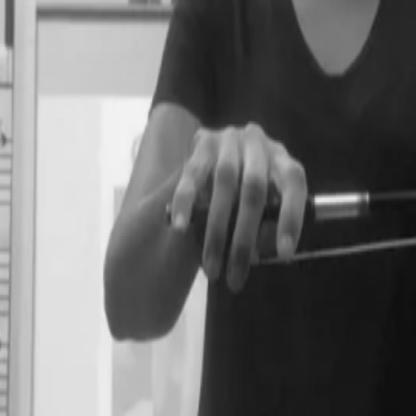good: (166, 115, 318, 296)
